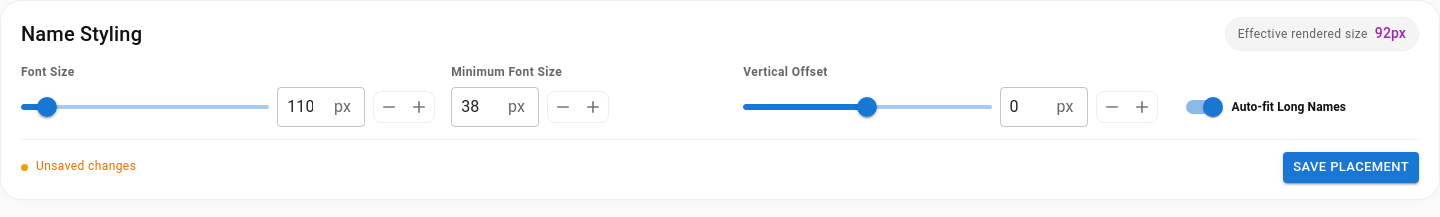
NameStylingControls › keeps the font-size slider and numeric field synchronized
Step 1. Set the slider named "Font Size slider" to "144" → [46, 107], box [36,97,56,117]
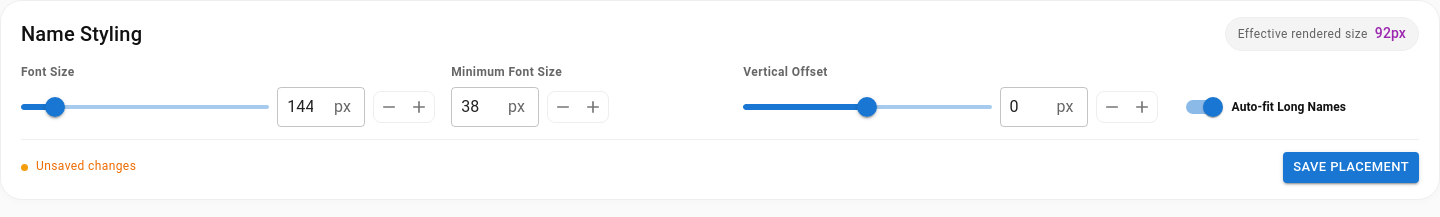
Check: the heading "92px" is shown, box [1375,23,1406,45]
Check: the number field named "Font Size value" holds "144", box [277,87,332,127]
